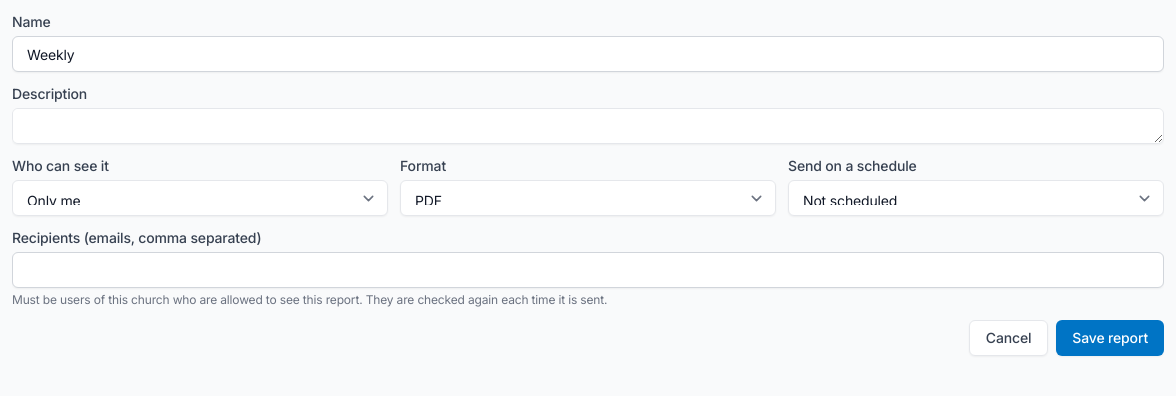
Test: save form › a scheduled report cannot be JSON
Select "JSON" in the dropdown labelled "Format" at (588, 198), box top-left (400, 180), bottom-right (776, 216)
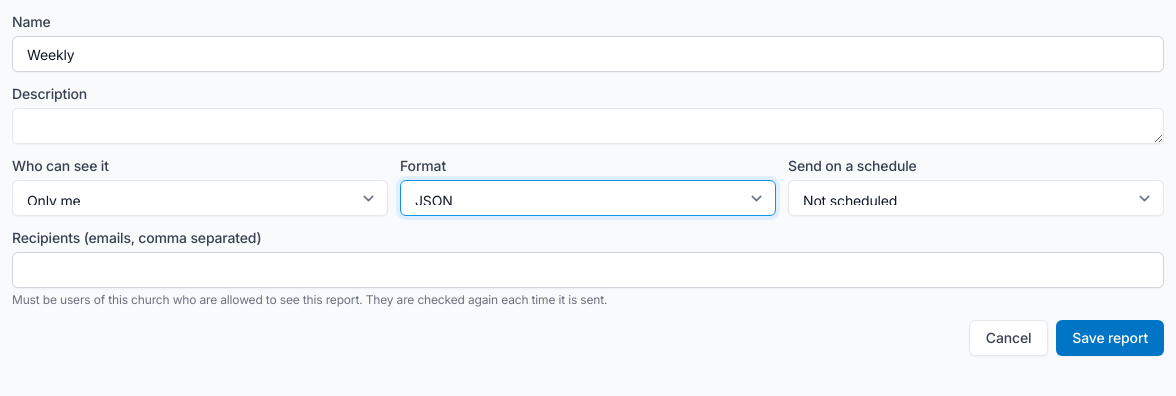
Select "Daily" in the dropdown labelled "Send on a schedule" at (976, 198), box top-left (788, 180), bottom-right (1164, 216)
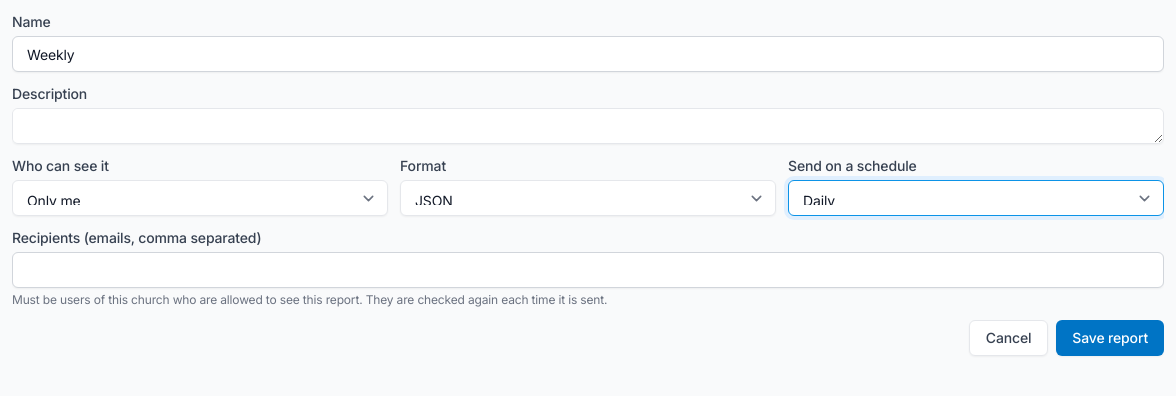
Type "a@b.co" into the field labelled "Recipients (emails, comma separated)" at (588, 270), box top-left (12, 252), bottom-right (1164, 288)
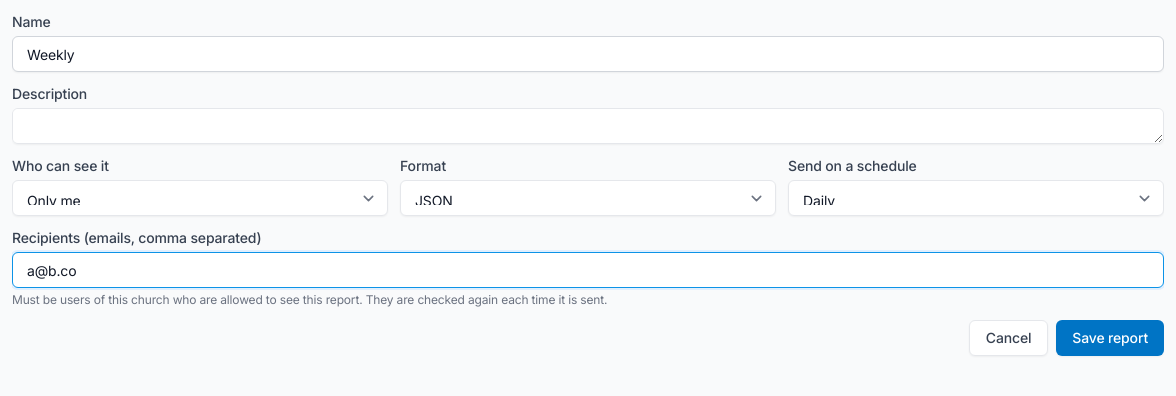
Click the button "Save report" at (1110, 338), box top-left (1056, 320), bottom-right (1164, 356)
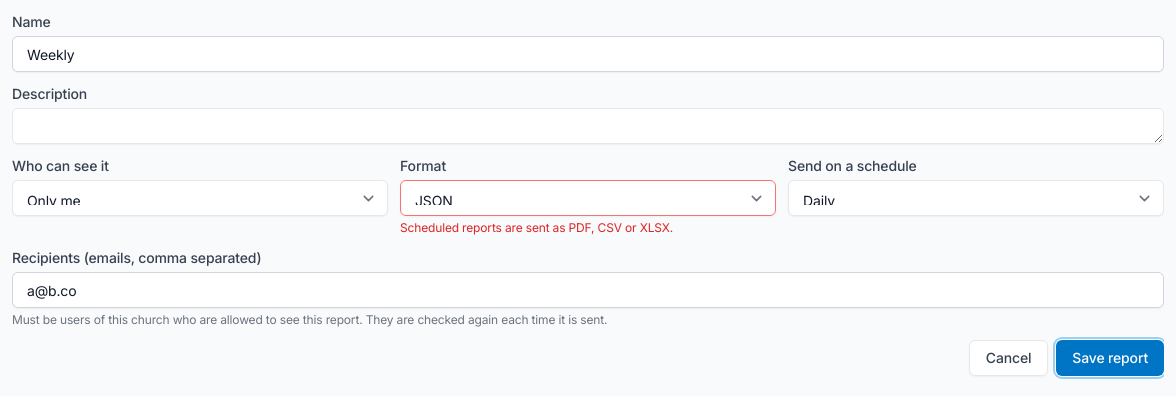
Expected: the text "Scheduled reports are sent as PDF, CSV or XLSX." is shown, top-left (400, 220), bottom-right (673, 235)
